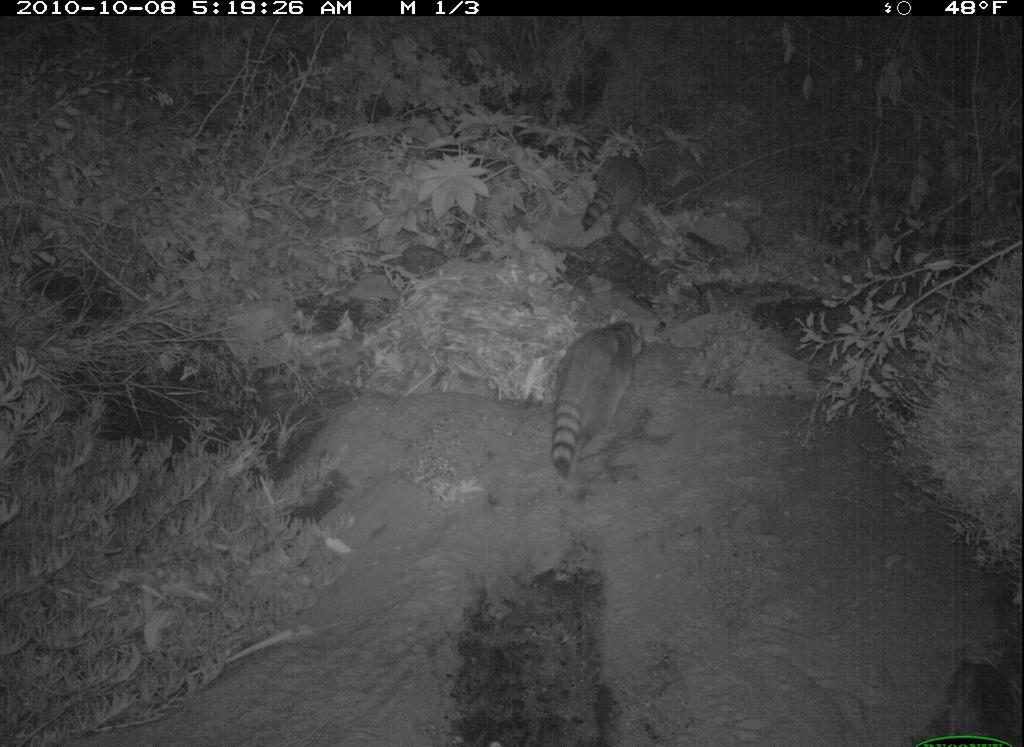raccoon: (545, 313, 658, 482)
